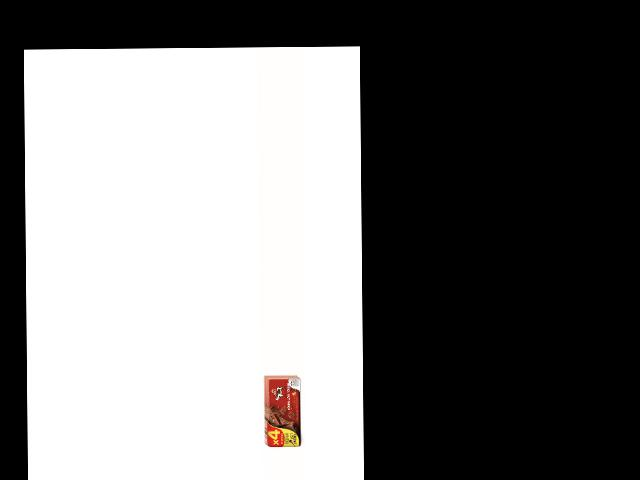chocolate: (264, 376, 302, 448)
